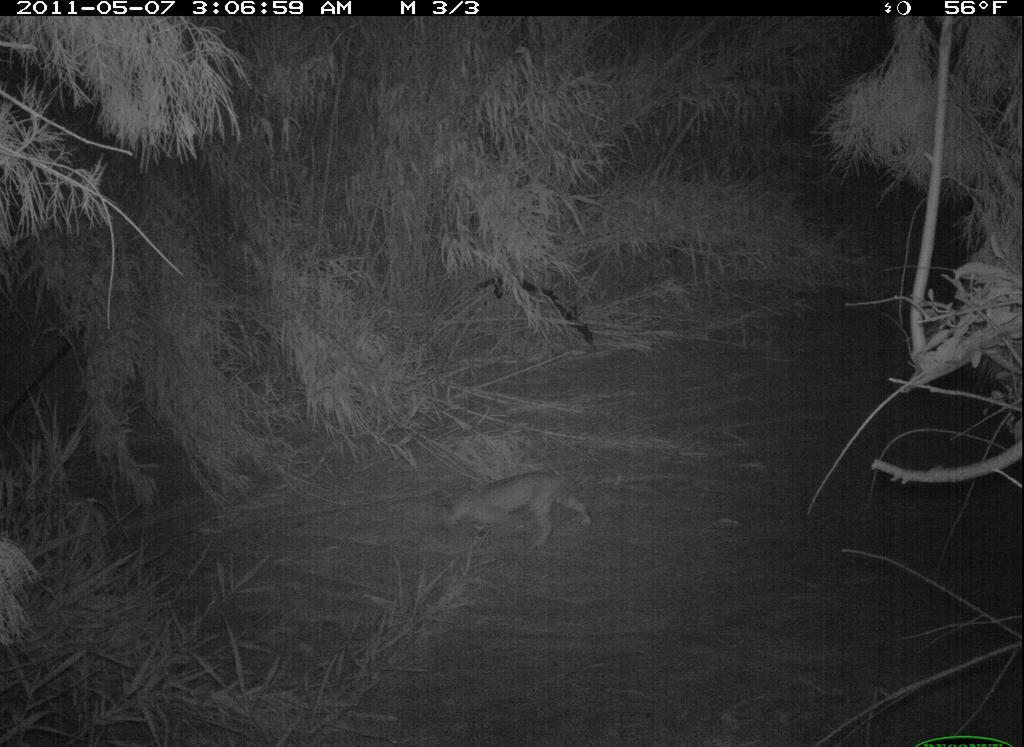bobcat: (436, 468, 593, 565)
